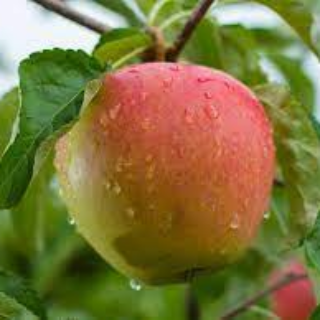tao: (53, 56, 279, 288)
